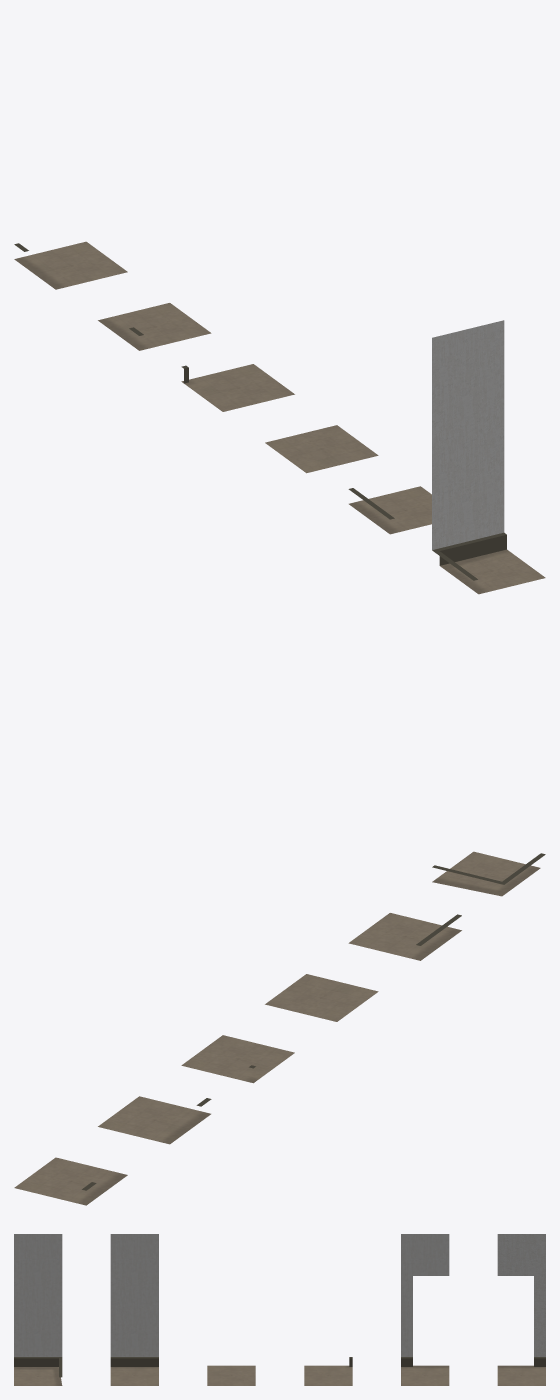
Rendered from tiles.glb.
The picture shows the model from 3 angles, top to bottom: view 1: azimuth 30°, elevation 25°; view 2: azimuth 150°, elevation 25°; view 3: azimuth 270°, elevation 25°; orthographic projection. The views are drawn at different scales.
Visible parts, largest first — view 1: Corner-col, Edge-col, Wall_door2-col, Wall_door-col, Floor-col, Corridor-col; view 2: Corridor-col, Wall_door-col, Wall_door2-col, Floor-col, Edge-col, Corner-col; view 3: Corridor-col, Corner-col, Wall_door-col, Wall_door2-col, Edge-col, Floor-col.
Part boxes in pixels (x1,y1,x2,y2): Corner-col: (432,320,545,594); Edge-col: (181,364,294,411); Wall_door2-col: (14,241,127,289); Wall_door-col: (98,303,211,350); Floor-col: (265,425,378,473); Corridor-col: (348,486,431,534); Corridor-col: (348,913,461,960); Wall_door-col: (98,1096,211,1144); Wall_door2-col: (14,1157,127,1205); Floor-col: (265,974,378,1021); Edge-col: (181,1035,294,1083); Corner-col: (432,851,545,896); Corridor-col: (110,1234,158,1385); Corner-col: (14,1234,62,1385); Wall_door-col: (401,1234,449,1385); Wall_door2-col: (497,1234,545,1385); Edge-col: (304,1357,352,1385); Floor-col: (207,1365,255,1385).
Size of the model in its own units: 1 by 3 by 11.
1 material, 1 textured.
